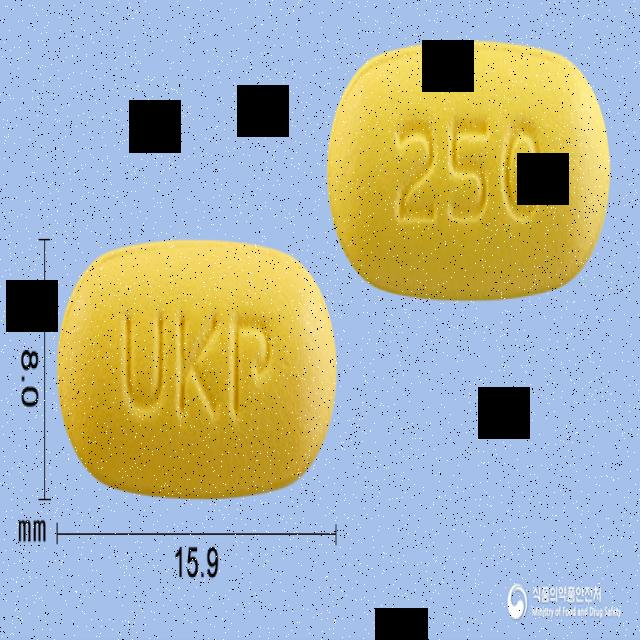Clazin - 500mg: (57, 233, 337, 500), (324, 42, 612, 300)
